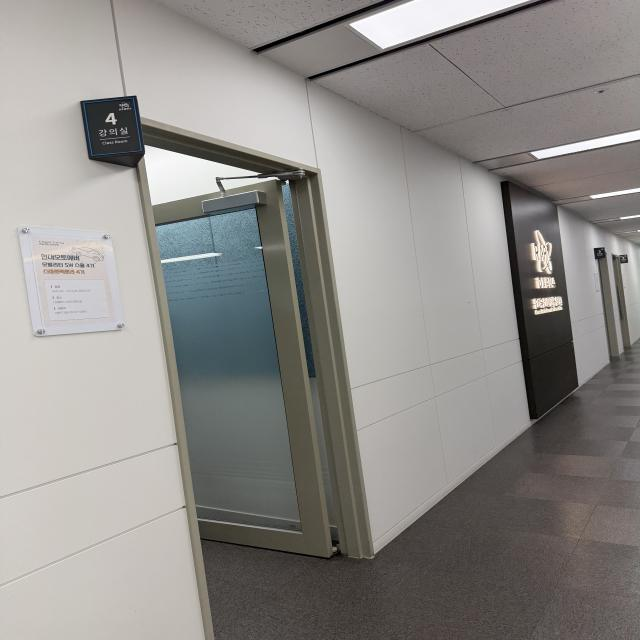sign: (82, 98, 141, 155)
